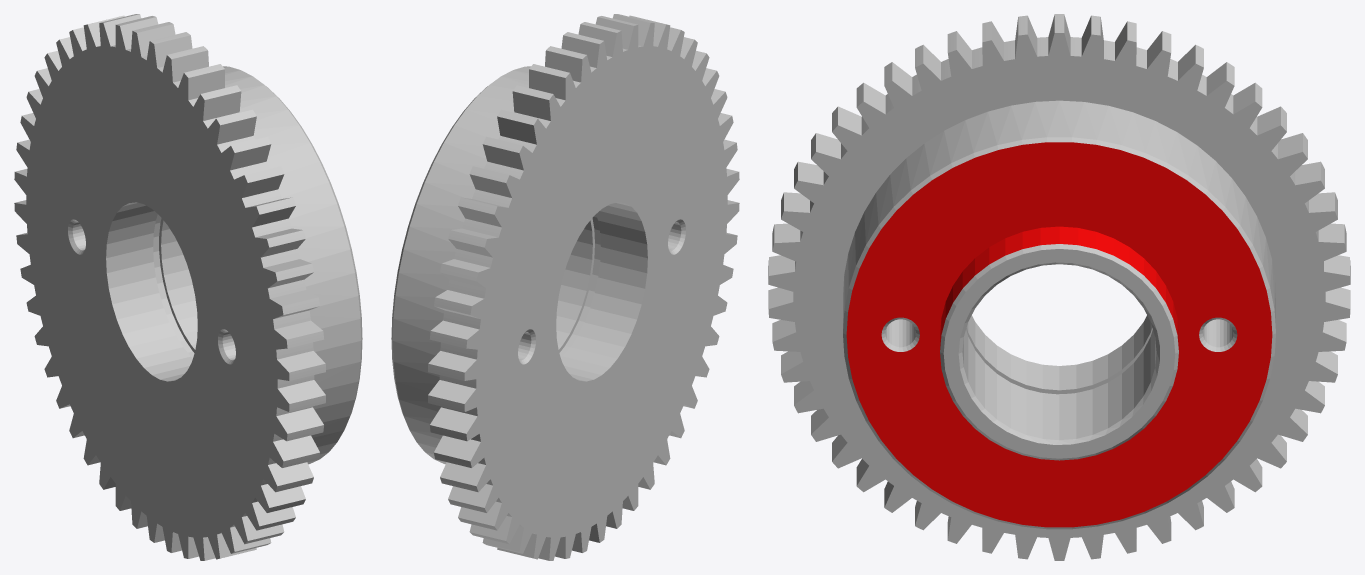
The model's file is 963508_RW44_IT66_stp_54_212.obj.
3 renders of one model, left to right at view 1: azimuth 30°, elevation 25°; view 2: azimuth 150°, elevation 25°; view 3: azimuth 270°, elevation 25°, orthographic. The views are drawn at different scales.
Parts seen in each view (by area): view 1: Object1; view 2: Object1; view 3: Object1.
Boxes of the visible parts, box(x1,y1,x2,y2) form: Object1: box(14, 14, 362, 560); Object1: box(391, 14, 739, 560); Object1: box(768, 14, 1350, 560).
Size of the model in its own units: 24 by 78 by 77.92.
